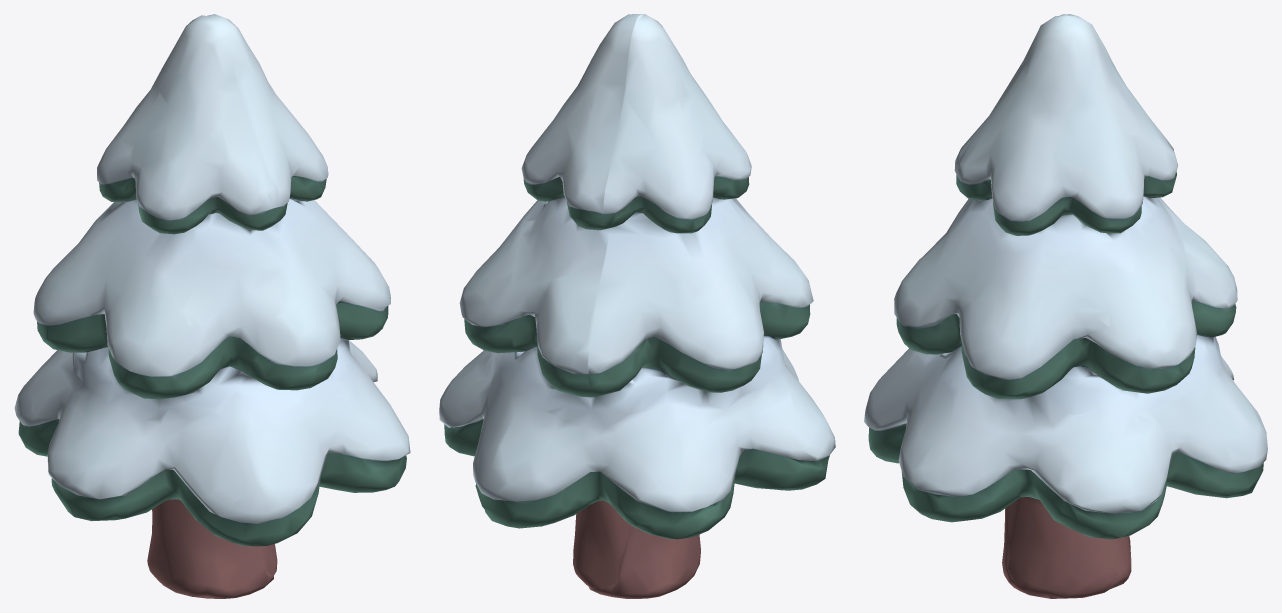
File: tree-a.glb
3 renders of one model, left to right at view 1: azimuth 30°, elevation 25°; view 2: azimuth 150°, elevation 25°; view 3: azimuth 270°, elevation 25°, orthographic.
Visible parts, largest first — view 1: tripo_node_816539d3-69c3-4dc9-8b90-bf657ced5c64; view 2: tripo_node_816539d3-69c3-4dc9-8b90-bf657ced5c64; view 3: tripo_node_816539d3-69c3-4dc9-8b90-bf657ced5c64.
Part boxes in pixels (x1=…): tripo_node_816539d3-69c3-4dc9-8b90-bf657ced5c64: x1=14, y1=14, x2=410, y2=598; tripo_node_816539d3-69c3-4dc9-8b90-bf657ced5c64: x1=439, y1=14, x2=835, y2=598; tripo_node_816539d3-69c3-4dc9-8b90-bf657ced5c64: x1=864, y1=14, x2=1267, y2=598.
Size of the model in its own units: 0.6443 by 1 by 0.6505.
Materials: 1 (1 with a texture image).
